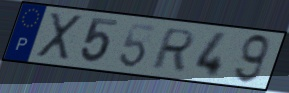4: (192, 30, 230, 81)
5: (79, 16, 122, 65), (117, 21, 159, 69)
9: (232, 33, 271, 86)
R: (148, 26, 199, 73)
X: (34, 11, 85, 62)
